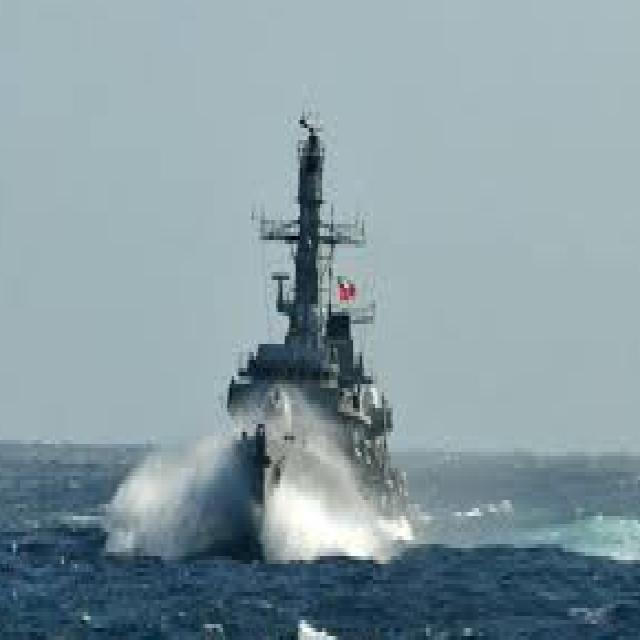navalvessels: (129, 98, 413, 578)
